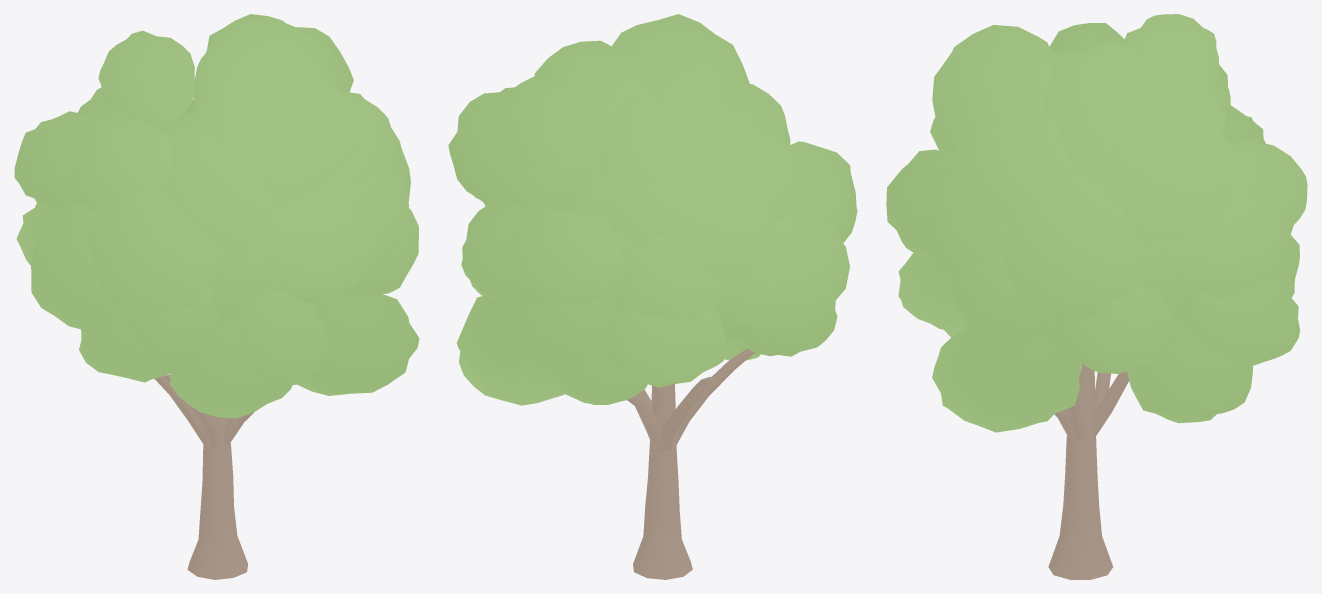
File: Blender_Maple_2.glb
The picture shows the model from 3 angles, left to right: view 1: azimuth 30°, elevation 25°; view 2: azimuth 150°, elevation 25°; view 3: azimuth 270°, elevation 25°; orthographic projection. The views are drawn at different scales.
Parts seen in each view (by area): view 1: Blender_Maple_2; view 2: Blender_Maple_2; view 3: Blender_Maple_2.
Part boxes in pixels (bbox=[...]): Blender_Maple_2: bbox=[14, 14, 419, 579]; Blender_Maple_2: bbox=[448, 14, 857, 579]; Blender_Maple_2: bbox=[886, 14, 1307, 579].
Bounding box in the file's own units: 13.06 × 17.92 × 12.45.
